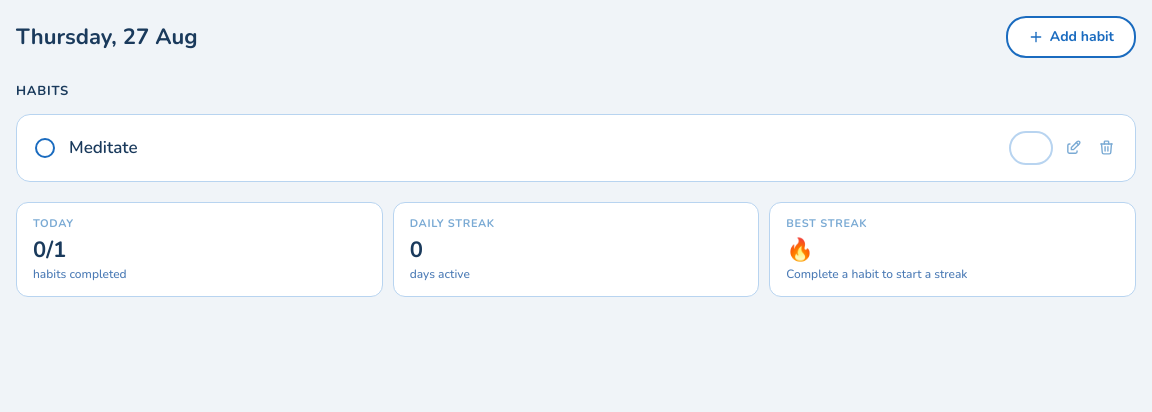
Test: HabitsSection component › when the user clicks a habit's delete icon › then opens the delete confirmation and disables the 'Add habit' button
The width and height of the screenshot is (1152, 412).
Click the button named "Delete habit".
click(1106, 148)  # box left=1094, top=135, right=1119, bottom=160
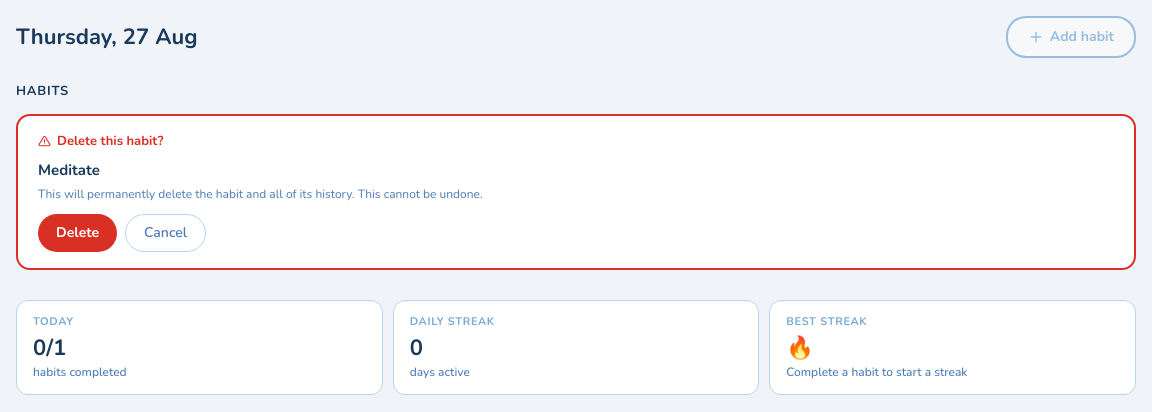
Expected: the heading "Delete this habit?" is shown, left=38, top=132, right=163, bottom=151
Expected: the button "Add habit" is disabled, left=1006, top=16, right=1136, bottom=58
